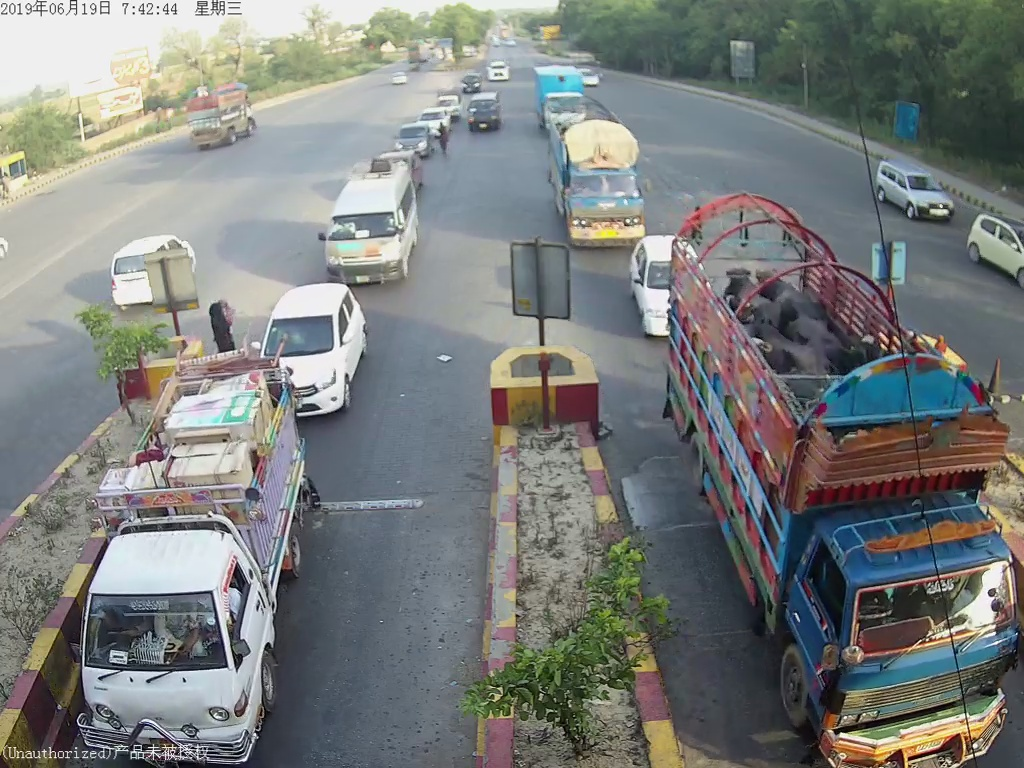Cat-1: (255, 281, 372, 378)
Cat-2: (638, 193, 1024, 768), (85, 366, 317, 727)
